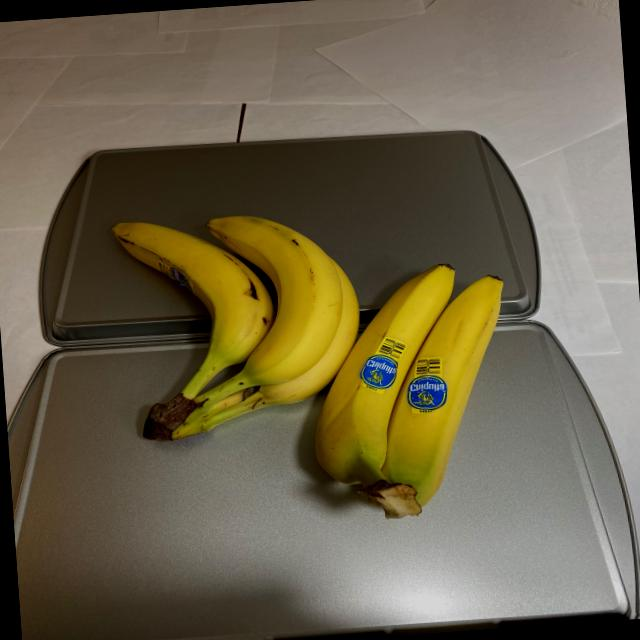banana: (98, 189, 524, 536)
